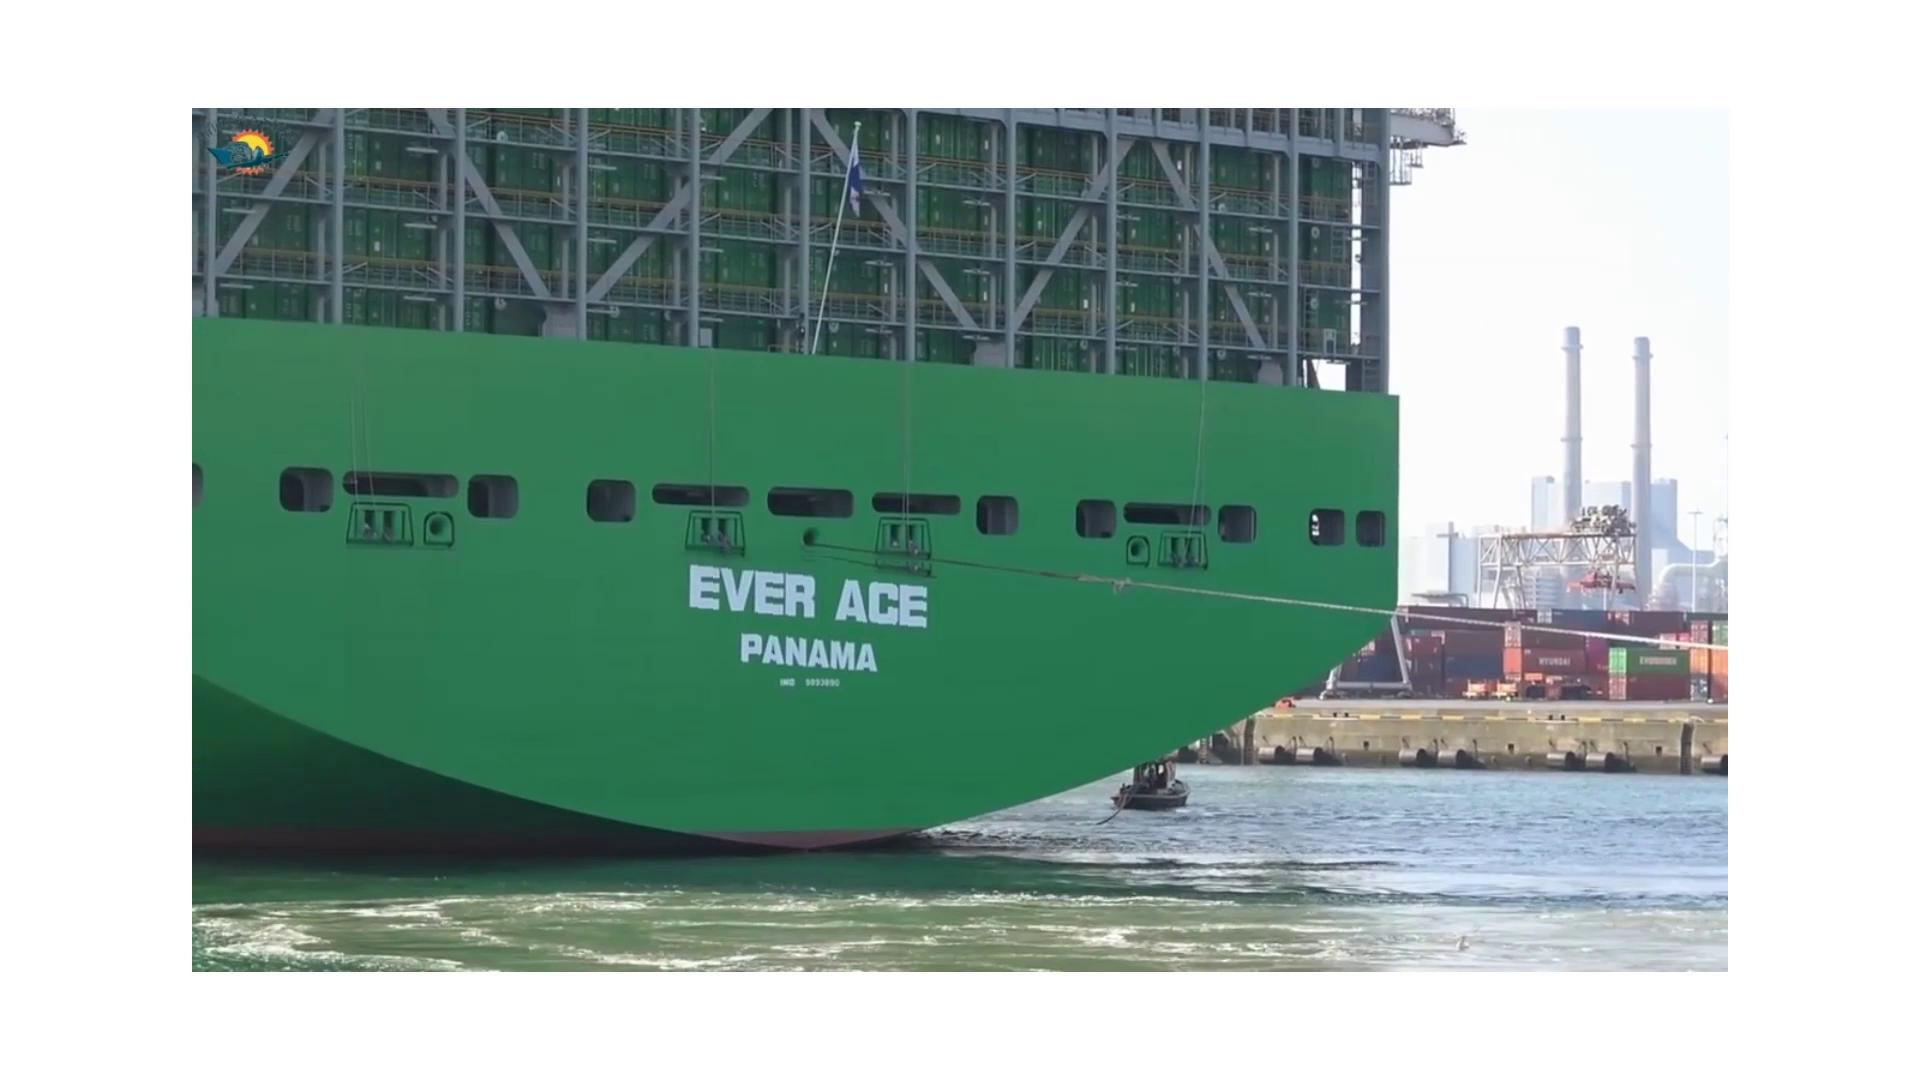OCR: (675, 546, 937, 676)
